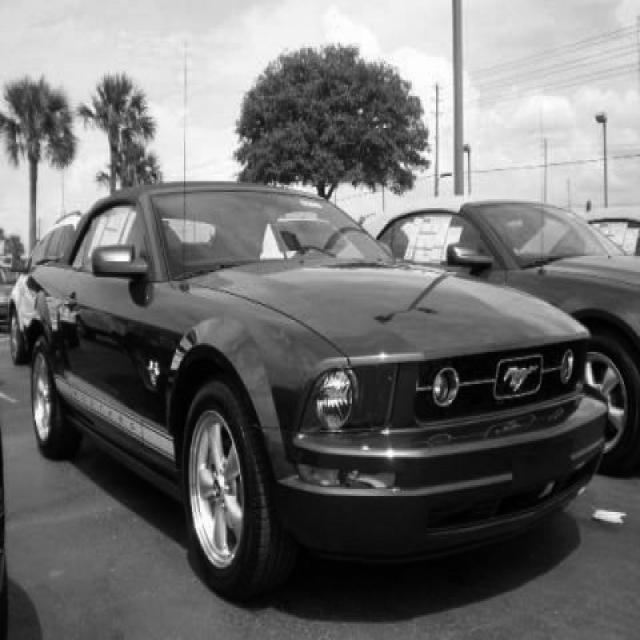car: (25, 178, 608, 601), (356, 196, 639, 474)
